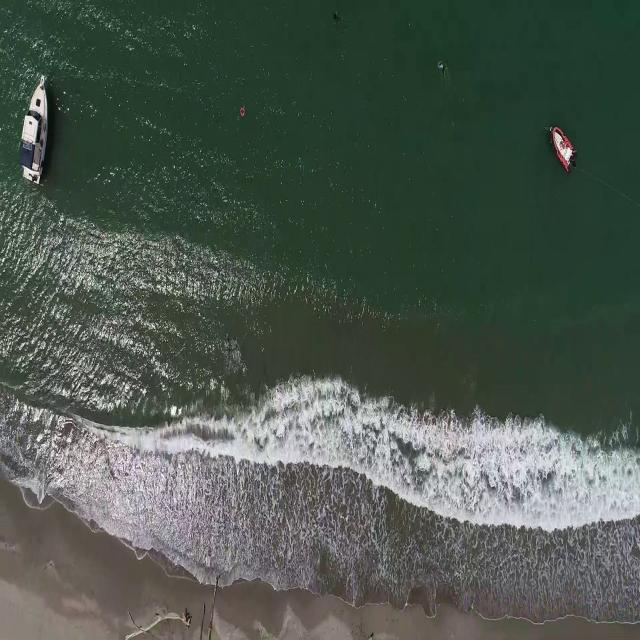boat: (19, 70, 50, 182), (548, 125, 579, 172)
life_buoy: (237, 104, 248, 118)
person: (435, 56, 449, 81), (331, 8, 343, 22)
wood: (125, 607, 193, 636), (199, 575, 220, 640)
